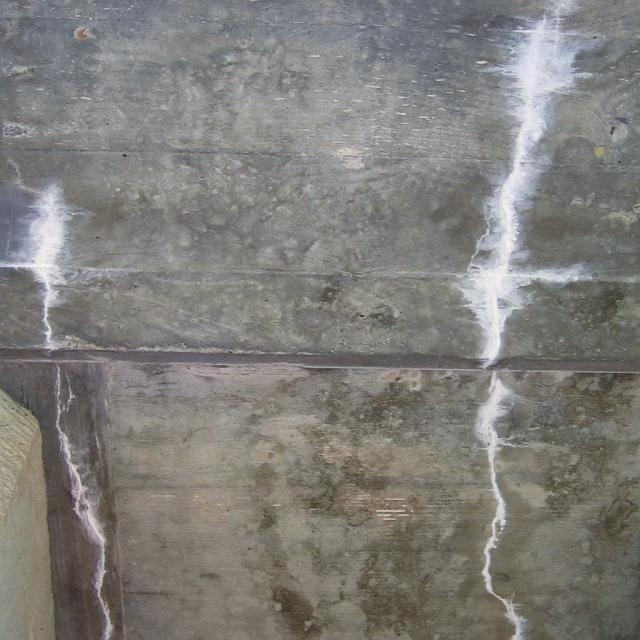D01: (458, 14, 578, 369), (2, 186, 76, 349)
